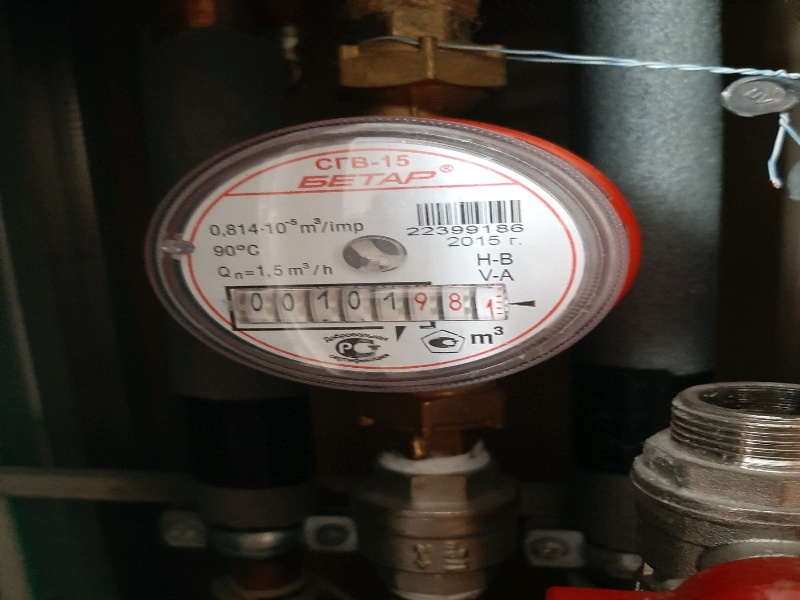meter: (219, 281, 515, 319)
